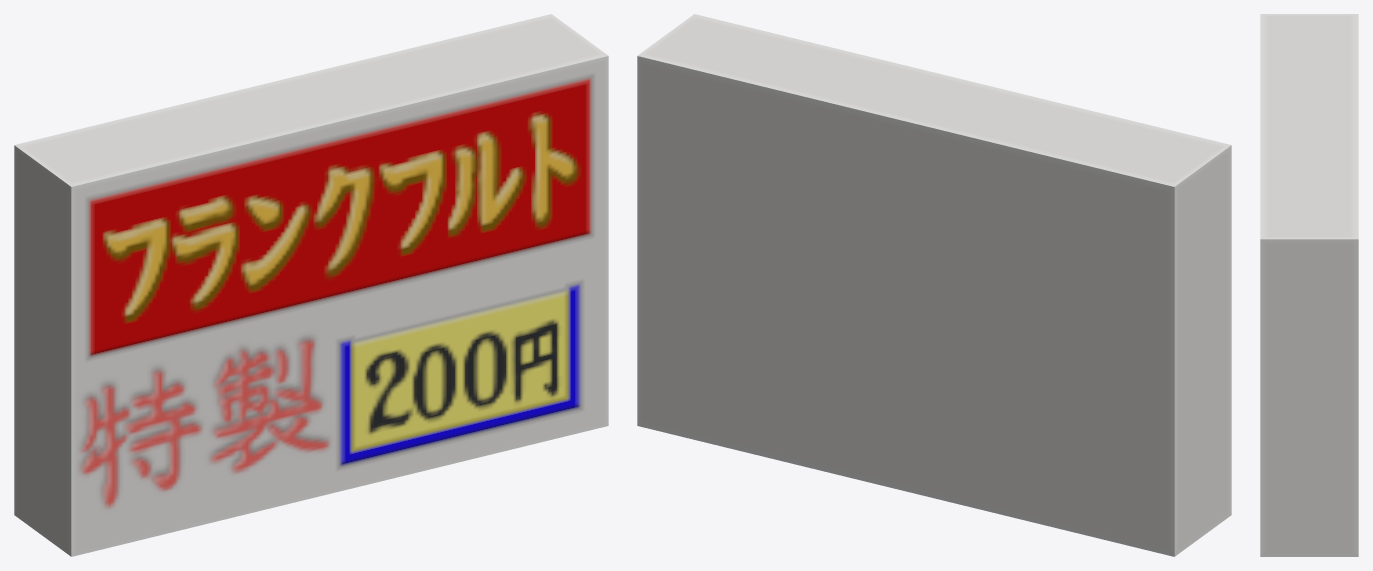
File: jsf_Light_Frankfurt.fbx
3 views of the same model, side by side, from view 1: azimuth 30°, elevation 25°; view 2: azimuth 150°, elevation 25°; view 3: azimuth 270°, elevation 25° (orthographic). The views are drawn at different scales.
Parts seen in each view (by area): view 1: jsf_Light_Frankfurt; view 2: jsf_Light_Frankfurt; view 3: jsf_Light_Frankfurt.
Part boxes in pixels (left/top/right/bottom): jsf_Light_Frankfurt: left=14, top=14, right=608, bottom=556; jsf_Light_Frankfurt: left=637, top=14, right=1231, bottom=556; jsf_Light_Frankfurt: left=1260, top=14, right=1358, bottom=556.
Bounding box in the file's own units: 38 × 25 × 7.02.
